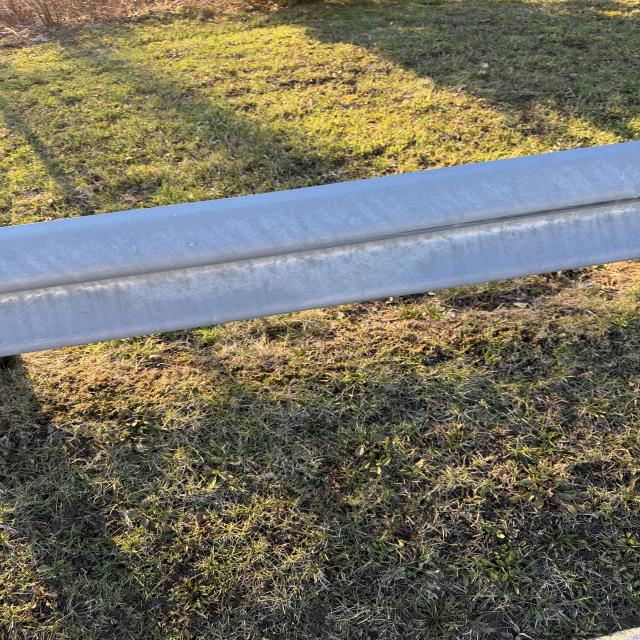Guard rail: (30, 154, 640, 332)
